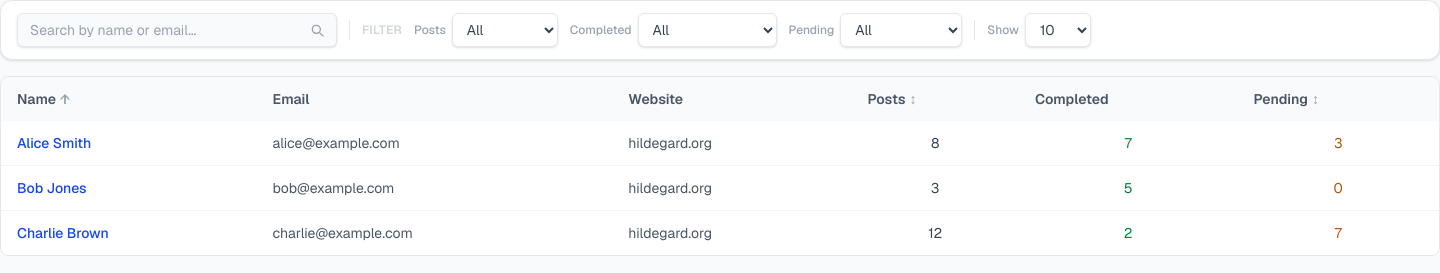
Scenario: UsersClient › filters list by name search
The width and height of the screenshot is (1440, 273).
Step 1. Type "Alice" into the search field → (177, 30), box [17,13,337,47]
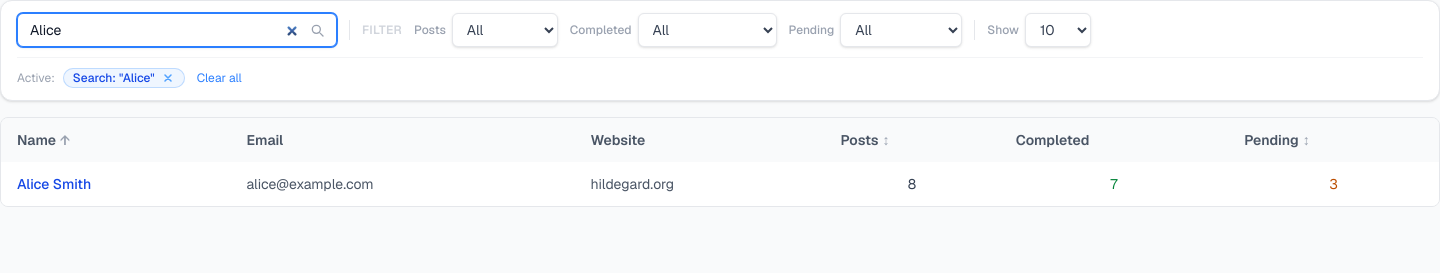
Expected: the link "Alice Smith" is shown, [17,175,91,193]
Now the link "Bob Jones" is gone
Now the link "Charlie Brown" is gone
